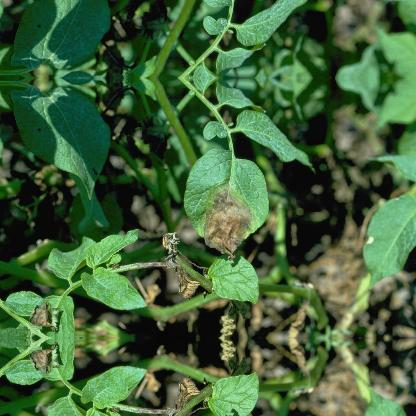Late-Blight: (188, 143, 266, 264), (138, 227, 208, 311), (138, 365, 208, 416), (17, 282, 71, 338), (17, 338, 71, 394)
